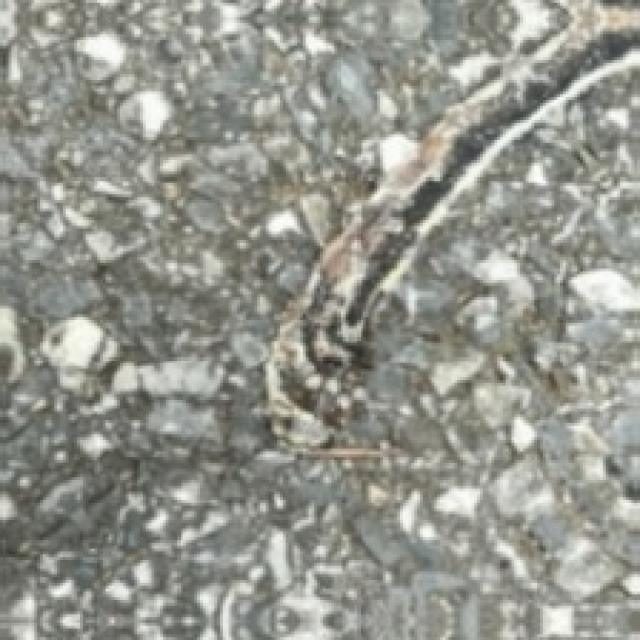king cobra: (266, 0, 637, 637)
